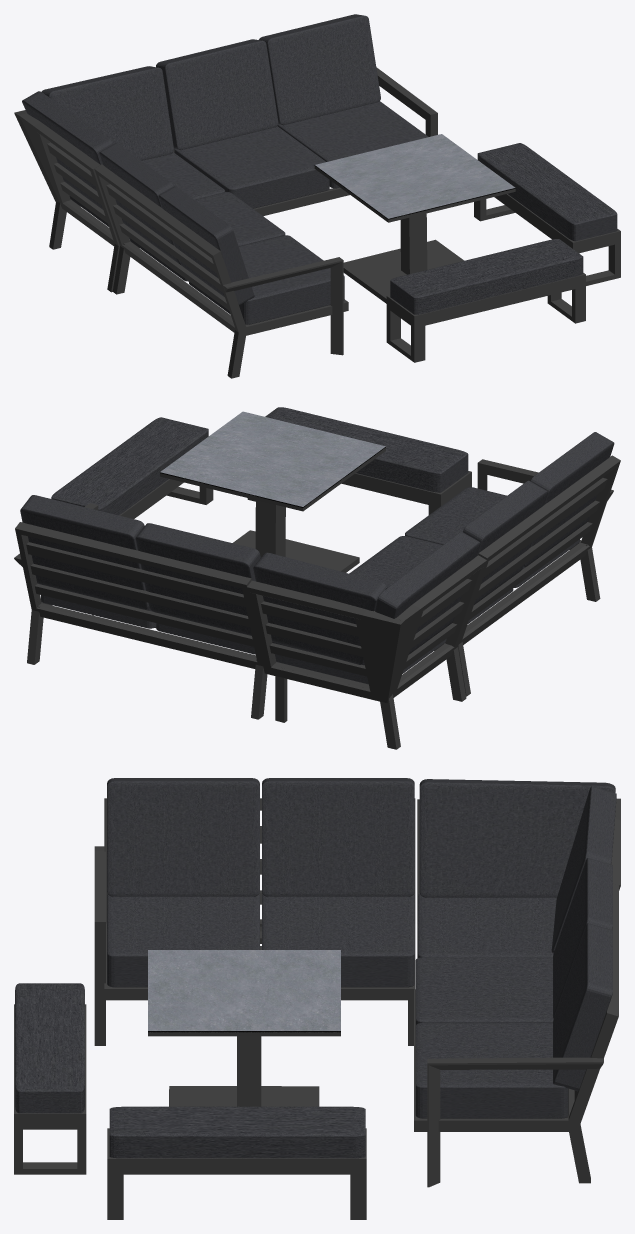
Rendered from Compact_Corner_AR.glb.
The picture shows the model from 3 angles, top to bottom: view 1: azimuth 30°, elevation 25°; view 2: azimuth 150°, elevation 25°; view 3: azimuth 270°, elevation 25°; orthographic projection. The views are drawn at different scales.
Parts seen in each view (by area): view 1: Cube.019, Cube.020, Cube.025, Cube.015, Cube.006, Cube.022, Cube.029, Cube.004, Cube.017, Cube.023, Cube.005, Cube.030 (+16 smaller); view 2: Cube.021, Cube.025, Cube.032, Cube.015, Cube.004, Cube.020, Cube.019, Cube.029, Cube.006, Cube.030, Cube.028, Cube.014 (+18 smaller); view 3: Cube.028, Cube.013, Cube.014, Cube.025, Cube.004, Cube.023, Cube.016, Cube.017, Cube.006, Cube.022, Cube.031, Cube.020 (+15 smaller).
Boxes of the visible parts, <box> form: Cube.019: <box>156,39,278,149</box>; Cube.020: <box>259,14,380,125</box>; Cube.025: <box>314,134,515,219</box>; Cube.015: <box>94,164,247,333</box>; Cube.006: <box>390,239,583,314</box>; Cube.022: <box>174,126,329,208</box>; Cube.029: <box>41,66,173,160</box>; Cube.004: <box>477,143,617,241</box>; Cube.017: <box>189,235,344,324</box>; Cube.023: <box>277,101,428,188</box>; Cube.005: <box>386,273,585,362</box>; Cube.030: <box>19,113,119,248</box>; Cube.021: <box>15,522,262,668</box>; Cube.025: <box>160,411,385,507</box>; Cube.032: <box>247,580,404,703</box>; Cube.015: <box>459,455,620,644</box>; Cube.004: <box>51,417,208,515</box>; Cube.020: <box>20,495,148,609</box>; Cube.019: <box>135,523,260,635</box>; Cube.029: <box>253,552,387,664</box>; Cube.006: <box>265,407,468,492</box>; Cube.030: <box>384,555,486,703</box>; Cube.028: <box>375,531,480,654</box>; Cube.014: <box>524,432,614,567</box>; Cube.028: <box>419,779,615,897</box>; Cube.013: <box>262,778,414,896</box>; Cube.014: <box>107,778,259,896</box>; Cube.025: <box>148,950,340,1032</box>; Cube.004: <box>109,1106,365,1158</box>; Cube.023: <box>415,1022,568,1118</box>; Cube.016: <box>262,894,414,987</box>; Cube.017: <box>107,894,259,987</box>; Cube.006: <box>15,983,84,1113</box>; Cube.022: <box>415,957,553,1025</box>; Cube.031: <box>418,893,556,957</box>; Cube.020: <box>553,923,612,1091</box>.
Size of the model in its own units: 14.14 by 4.99 by 13.83.
Materials: 11 (10 with a texture image).
